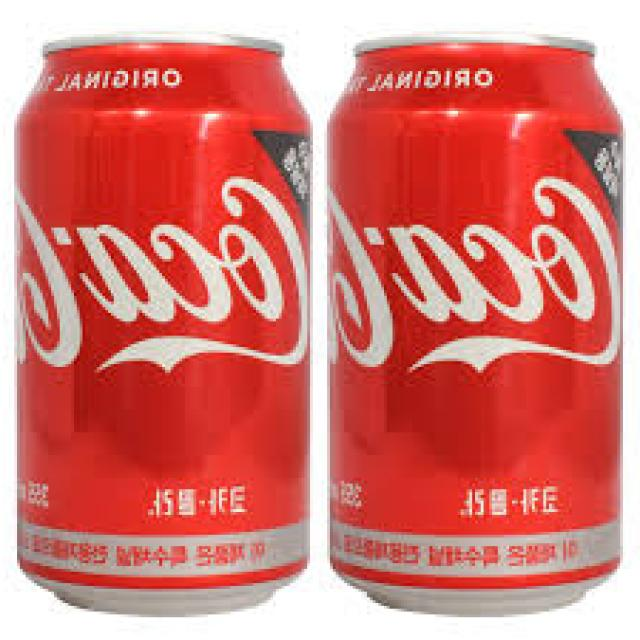Coca-Cola: (313, 21, 621, 614), (16, 23, 317, 619)
